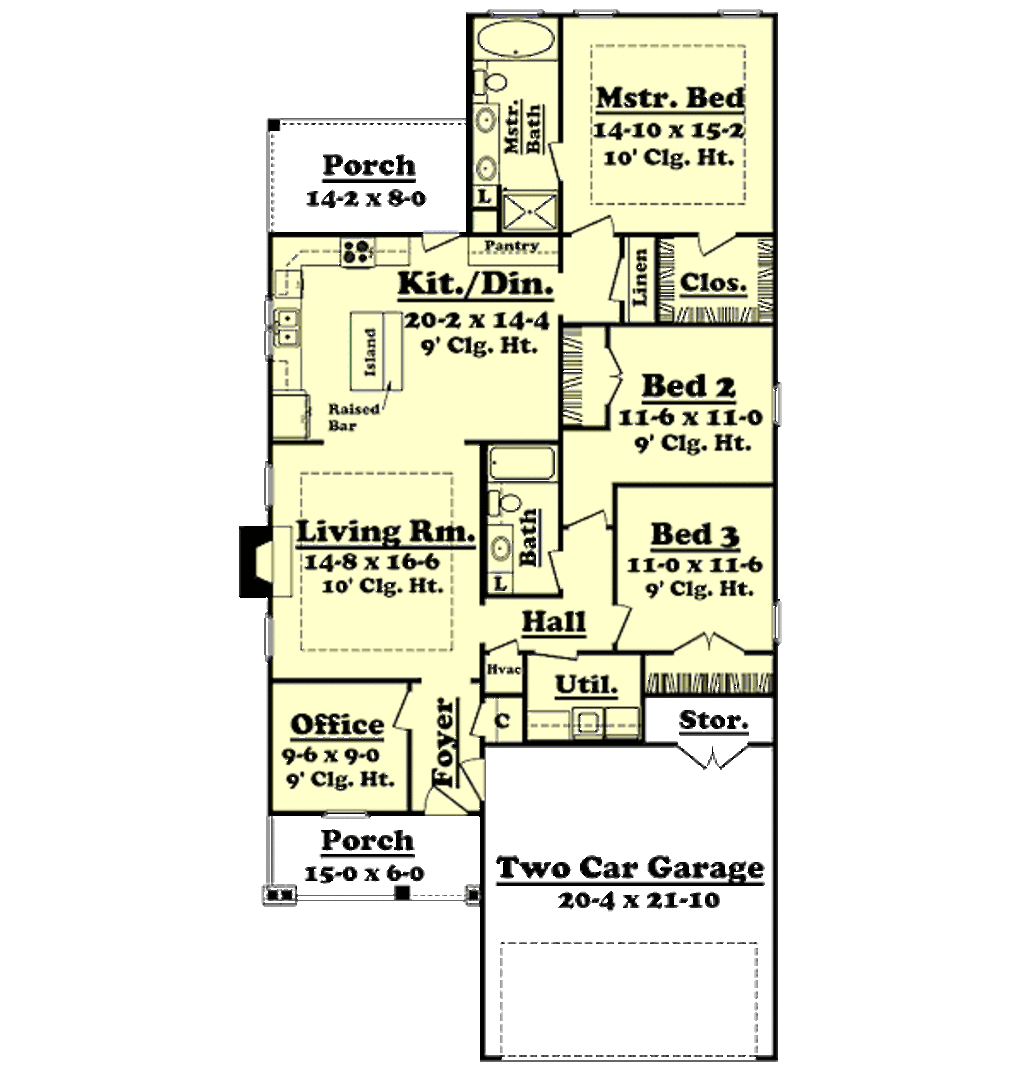door: (668, 744, 761, 773), (598, 338, 629, 409), (421, 779, 472, 818), (659, 634, 746, 656), (542, 134, 575, 191), (555, 506, 619, 533), (688, 225, 740, 258), (605, 250, 633, 310), (462, 757, 498, 802), (546, 542, 573, 600), (609, 598, 634, 653), (563, 214, 614, 240), (469, 697, 497, 743), (390, 682, 413, 735), (419, 231, 465, 257)
kitchen_bar: (342, 297, 420, 399)
large_sink: (475, 61, 520, 102), (485, 480, 530, 518)
small_sink: (474, 103, 500, 184), (486, 520, 523, 574)
tub: (473, 13, 562, 61), (483, 443, 568, 484)
twin_sink: (270, 307, 307, 362)
window: (763, 375, 792, 439), (322, 799, 378, 827), (257, 609, 279, 664), (262, 460, 281, 511), (719, 7, 765, 22), (566, 9, 625, 20)
